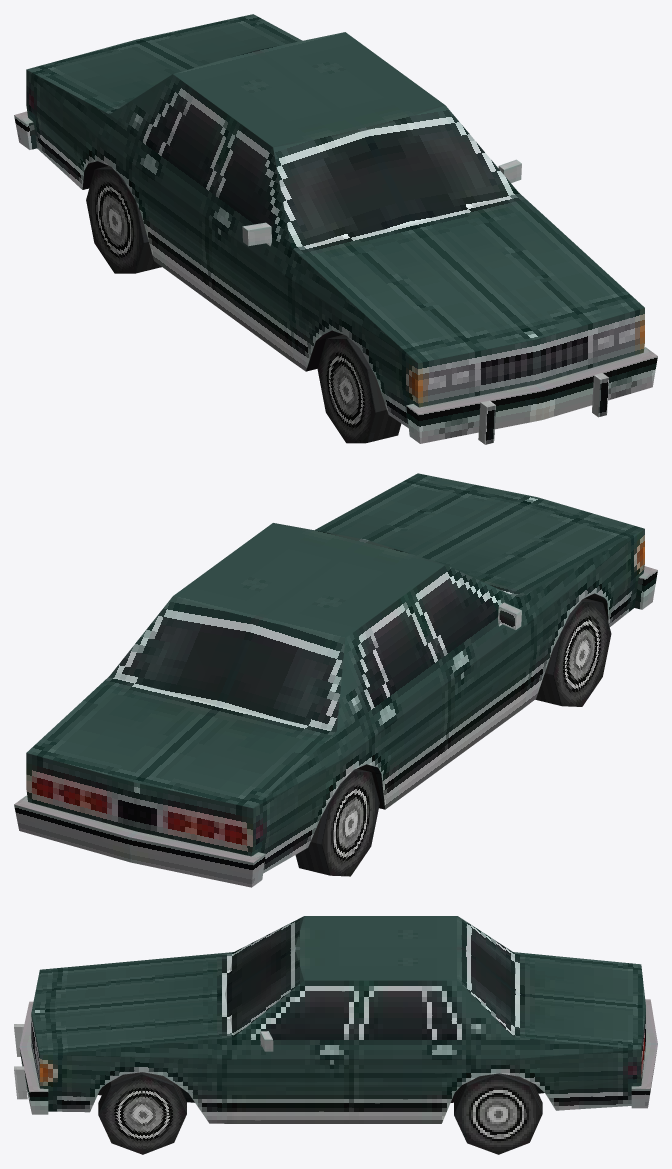
Rendered from car5-green.glb.
3 renders of one model, top to bottom at view 1: azimuth 30°, elevation 25°; view 2: azimuth 150°, elevation 25°; view 3: azimuth 270°, elevation 25°, orthographic. The views are drawn at different scales.
Visible parts, largest first — view 1: Car5; view 2: Car5; view 3: Car5.
Boxes of the visible parts, x1,y1,x2,y2 form: Car5: [14, 14, 657, 444]; Car5: [14, 473, 657, 887]; Car5: [14, 916, 657, 1154].
Bounding box in the file's own units: 2.78 × 2.05 × 7.37.
1 material, 1 textured.
